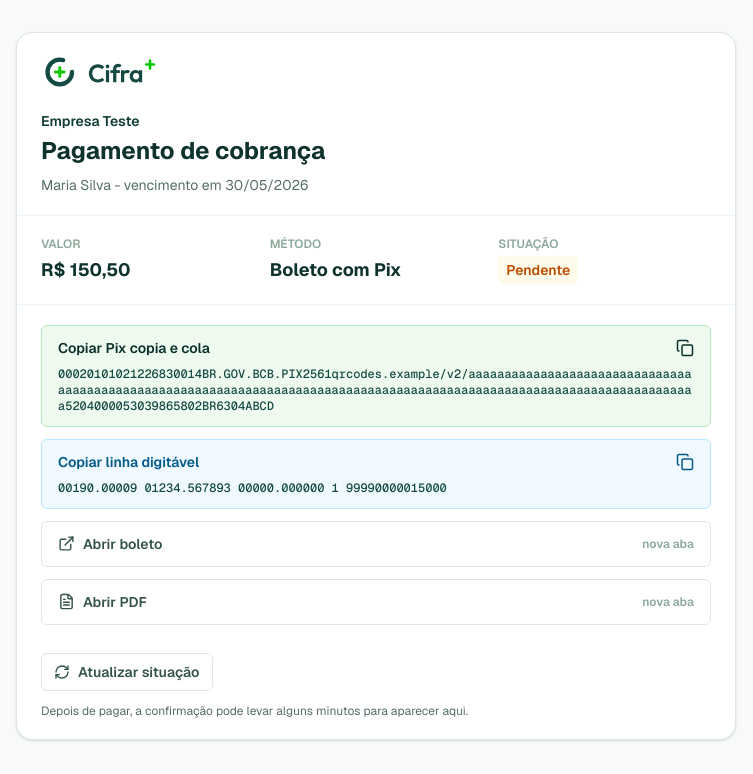
it: tells the payer how to copy by hand when the clipboard is blocked
Click the button "Copiar linha digitável": (129, 462) top-left (58, 452), bottom-right (694, 472)
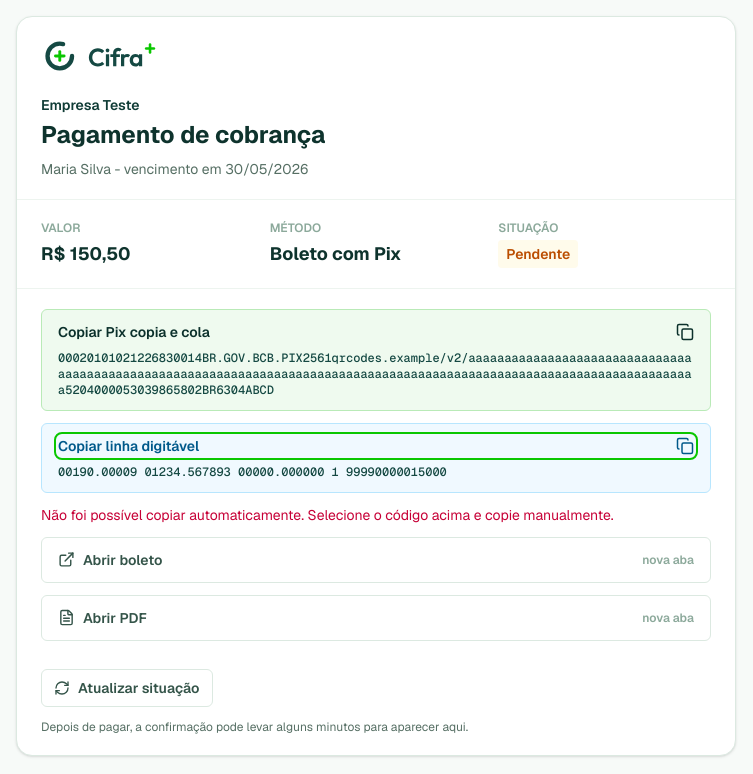
Expected: the message shows "copie manualmente", top-left (41, 506), bottom-right (614, 524)
